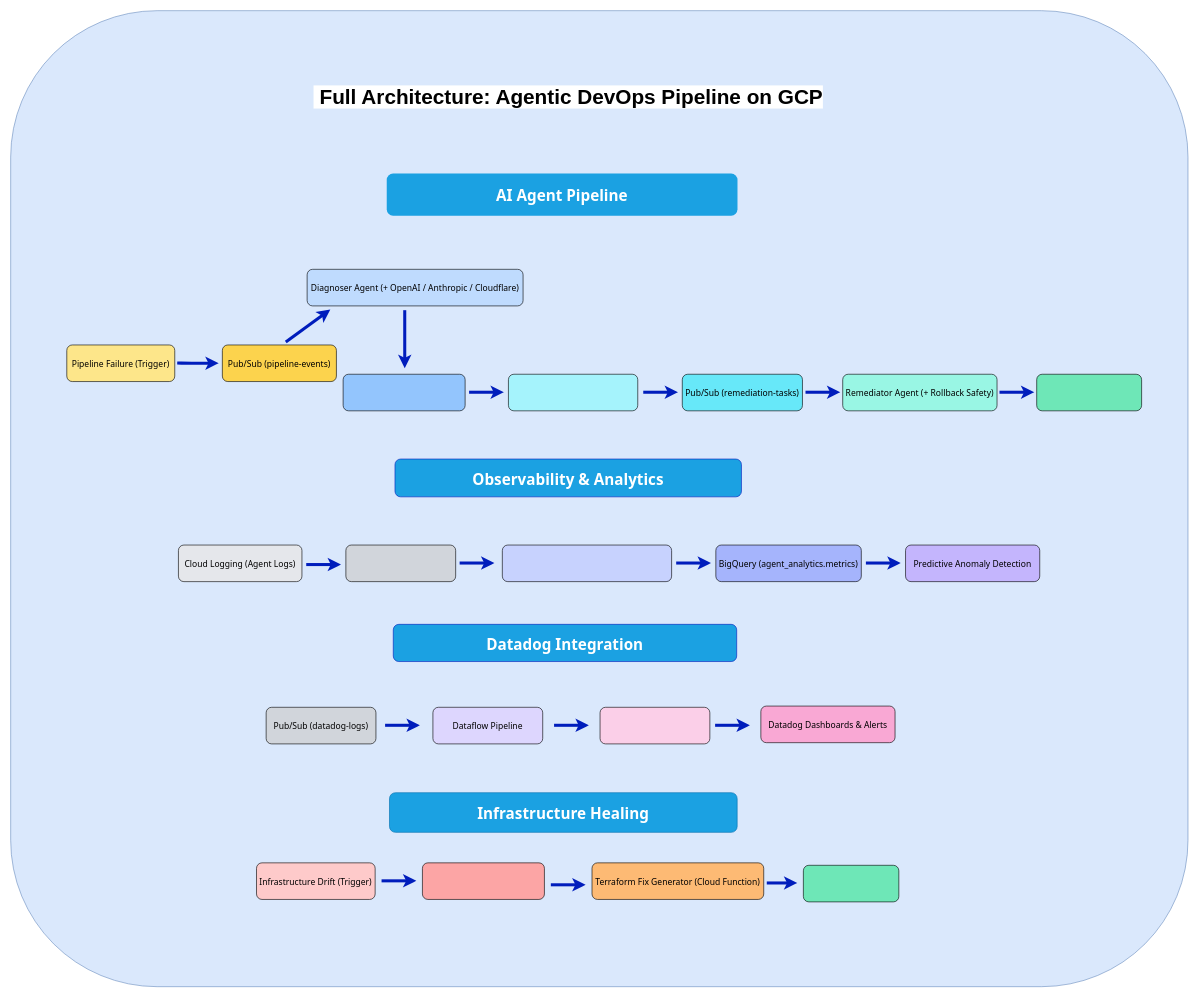
Some shapes in this 1199 by 997 pixel diagram are drawn without their labels. Each missing label, with the box of its shape:
Fixed Pipeline (Success): (1036, 374, 1142, 411)
HTTP Intake Endpoint: (599, 707, 710, 744)
Infrastructure Fixed: (803, 865, 899, 902)
Log Analytics Processor (Cloud Function): (502, 544, 672, 582)
Pub/Sub (drift-events): (422, 862, 544, 899)
Pub/Sub (log-analytics): (345, 544, 456, 582)
Pub/Sub (validation-requests): (343, 374, 465, 411)
Validator Agent (+ Claude AI): (508, 374, 638, 411)
